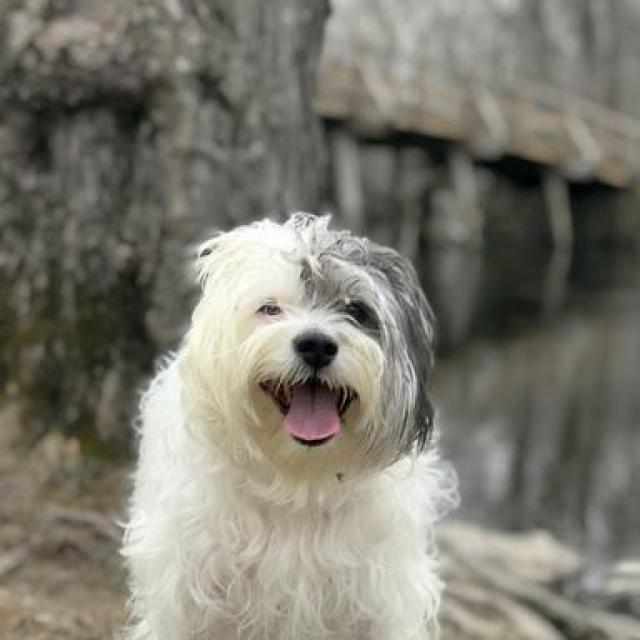adult_dog: (119, 211, 459, 640)
